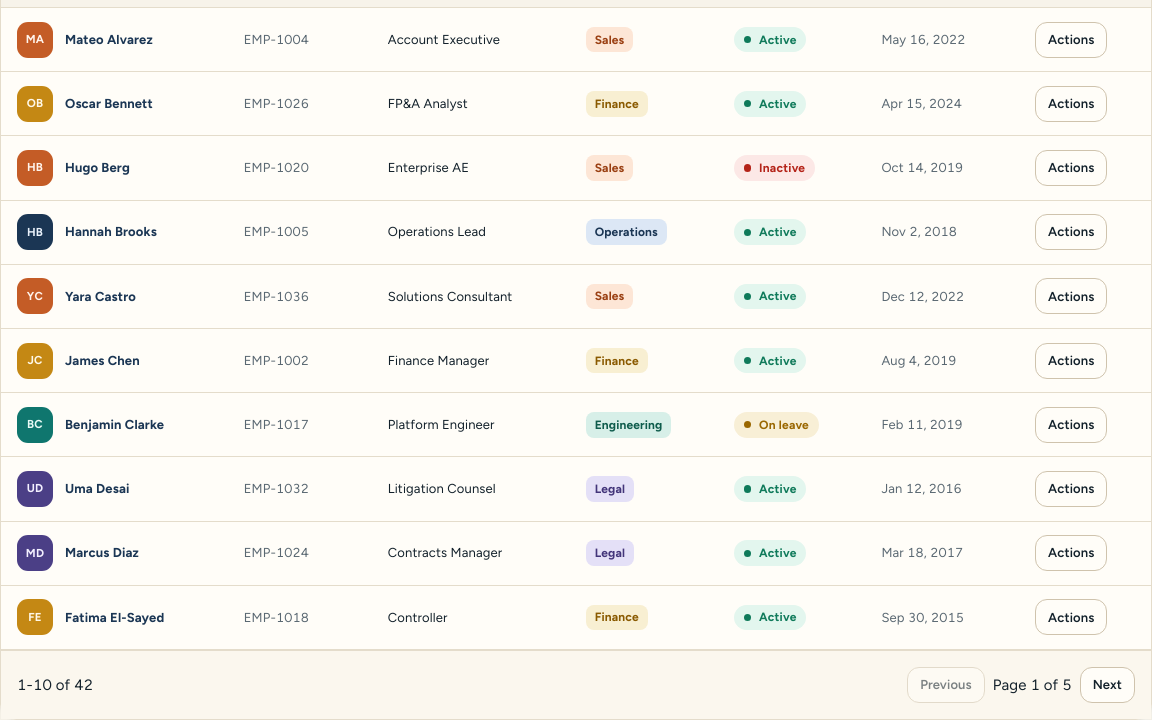
Test case: Deactivation › requires confirmation and cancel performs no mutation
The width and height of the screenshot is (1152, 720).
(page scrolled)
Click the button with aria-label "Actions for James Chen" at x=1071, y=361, box [1035,343,1107,379]
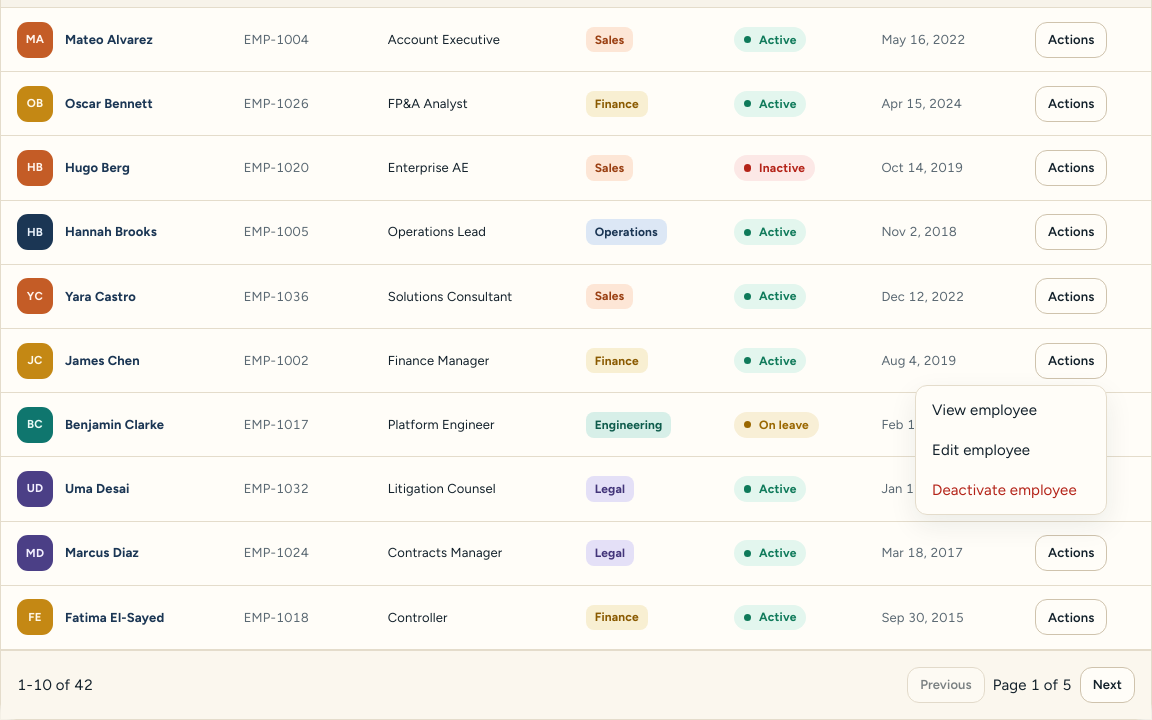
Click the menu item "Deactivate employee" at x=1004, y=490, box [932,481,1077,499]
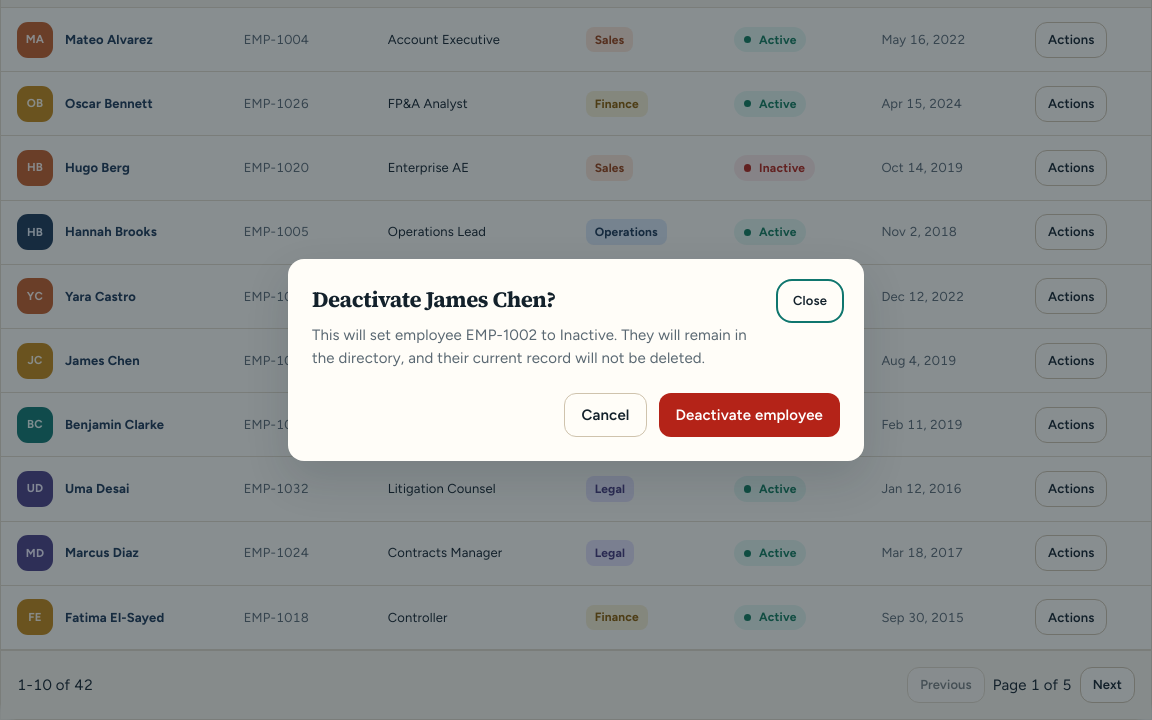
Check: the text "Inactive" is shown, box [312,326,747,366]
Click the button "Cancel" at x=606, y=415, box [564,393,646,437]
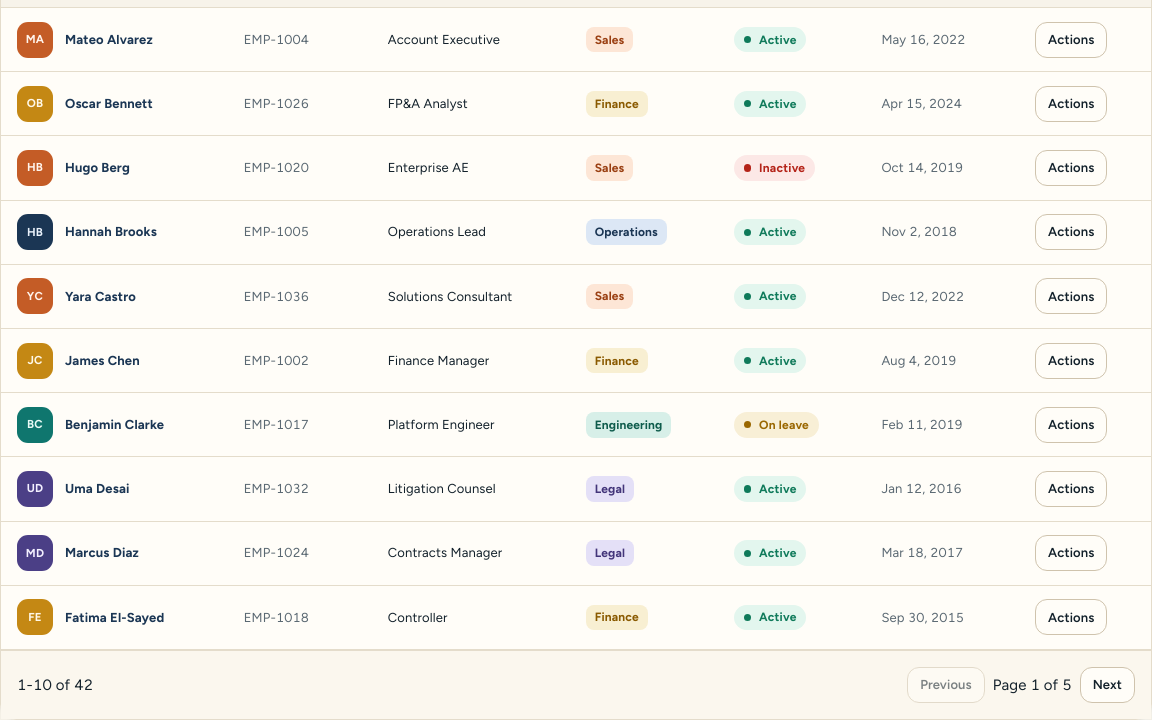
Check: the heading "Deactivate James Chen?" is gone
